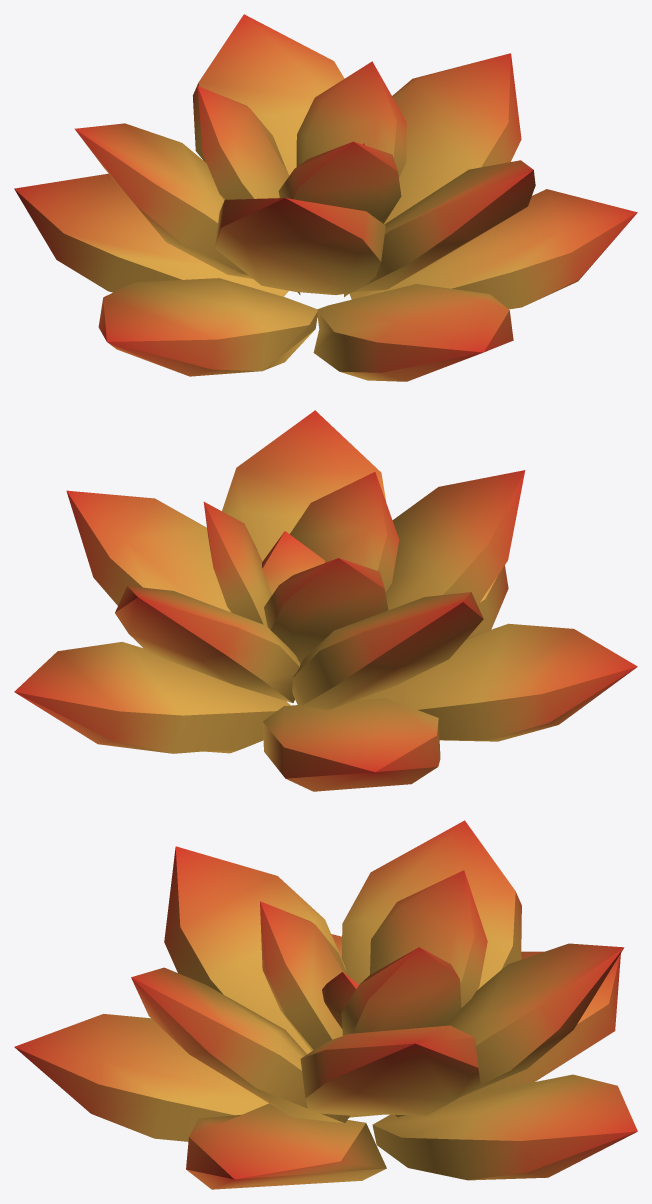
3 views of the same model, one above another, from view 1: azimuth 30°, elevation 25°; view 2: azimuth 150°, elevation 25°; view 3: azimuth 270°, elevation 25° (orthographic). The views are drawn at different scales.
Parts seen in each view (by area): view 1: LOD 1_16967760880170184947_4f521bcaeda9b9647b799715f43ad4b9; view 2: LOD 1_16967760880170184947_4f521bcaeda9b9647b799715f43ad4b9; view 3: LOD 1_16967760880170184947_4f521bcaeda9b9647b799715f43ad4b9.
Boxes of the visible parts, left/top/right/bottom form: LOD 1_16967760880170184947_4f521bcaeda9b9647b799715f43ad4b9: left=14, top=14, right=637, bottom=381; LOD 1_16967760880170184947_4f521bcaeda9b9647b799715f43ad4b9: left=14, top=410, right=637, bottom=791; LOD 1_16967760880170184947_4f521bcaeda9b9647b799715f43ad4b9: left=14, top=820, right=637, bottom=1189.
Size of the model in its own units: 0.8955 by 0.3434 by 0.8664.
